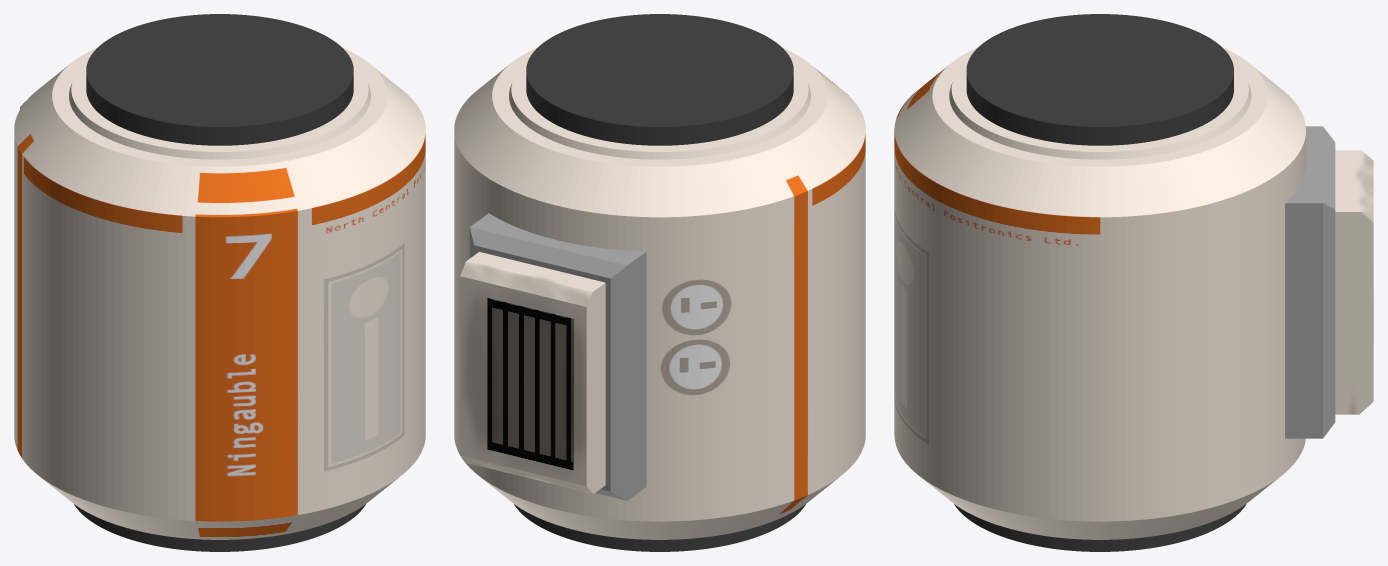
The model's file is ningauble_torso.dae.
The picture shows the model from 3 angles, left to right: view 1: azimuth 30°, elevation 25°; view 2: azimuth 150°, elevation 25°; view 3: azimuth 270°, elevation 25°; orthographic projection.
Parts seen in each view (by area): view 1: TorsoMainBarrel, TorsoNeckRing, TorsoWaistRing; view 2: TorsoMainBarrel, TorsoBattery, TorsoNeckRing, TorsoBatteryMount, TorsoWaistRing; view 3: TorsoMainBarrel, TorsoNeckRing, TorsoBatteryMount, TorsoBattery, TorsoWaistRing.
Part boxes in pixels (x1,y1,x2,y2): TorsoMainBarrel: [14, 47, 425, 539]; TorsoNeckRing: [86, 14, 353, 145]; TorsoWaistRing: [74, 504, 365, 551]; TorsoMainBarrel: [454, 47, 865, 539]; TorsoBattery: [460, 252, 605, 493]; TorsoNeckRing: [526, 14, 793, 145]; TorsoBatteryMount: [469, 213, 646, 500]; TorsoWaistRing: [514, 504, 805, 551]; TorsoMainBarrel: [894, 47, 1305, 539]; TorsoNeckRing: [966, 14, 1233, 145]; TorsoBatteryMount: [1285, 126, 1335, 438]; TorsoBattery: [1335, 150, 1373, 414]; TorsoWaistRing: [954, 504, 1246, 551].
Bounding box in the file's own units: 0.4 × 0.4654 × 0.4477.
